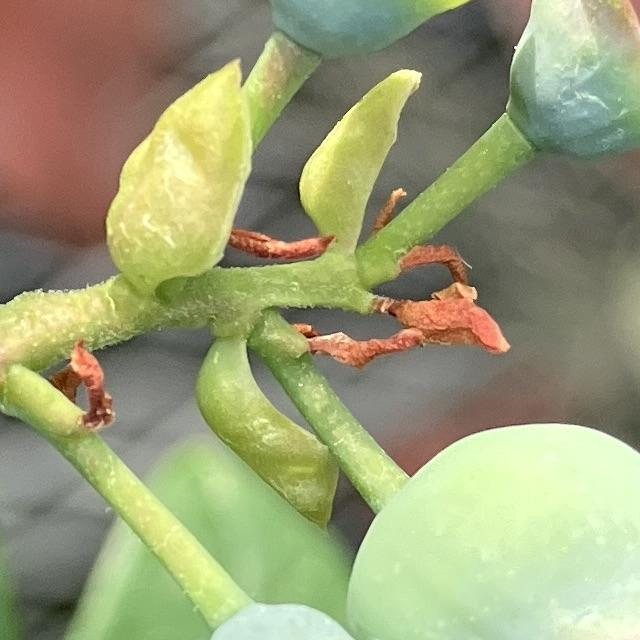Blueberries: (327, 388, 640, 640)
